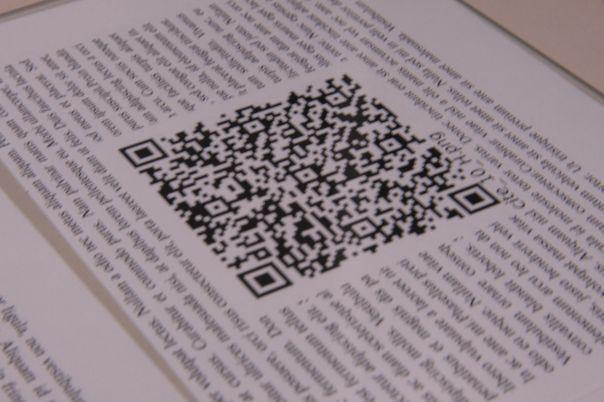Finder pattern: (235, 260, 294, 298), (449, 180, 502, 216), (120, 138, 171, 169)
